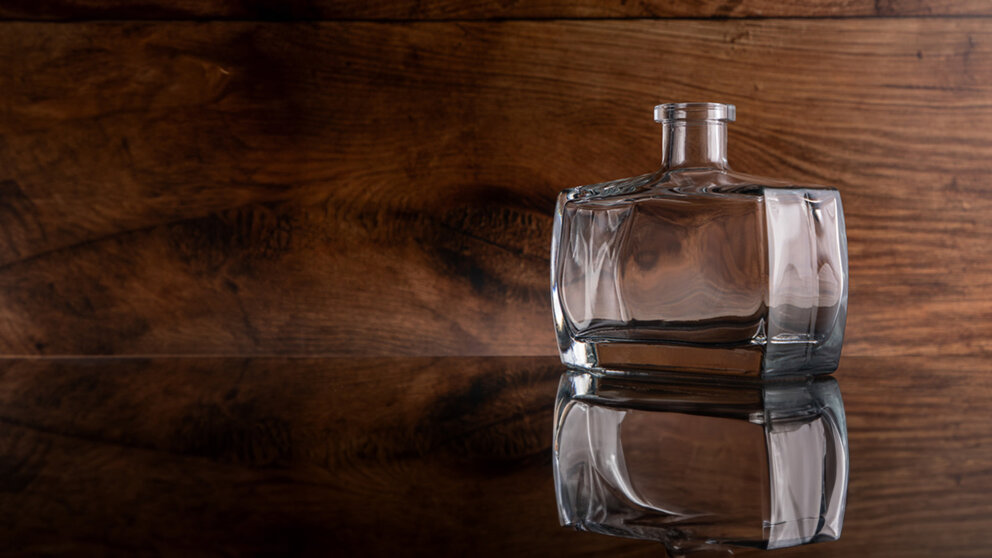glass_bottle: (539, 91, 870, 388)
